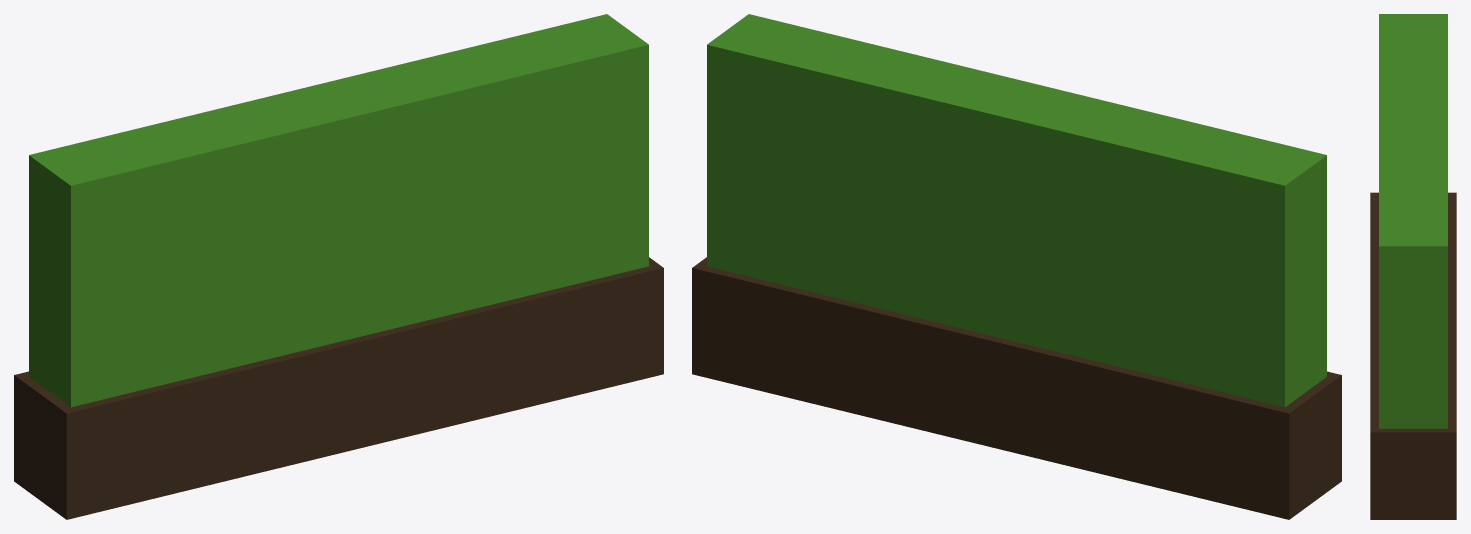
File: Hedge.fbx
3 renders of one model, left to right at view 1: azimuth 30°, elevation 25°; view 2: azimuth 150°, elevation 25°; view 3: azimuth 270°, elevation 25°, orthographic. The views are drawn at different scales.
Parts seen in each view (by area): view 1: Cube.028, Cube.015; view 2: Cube.028, Cube.015; view 3: Cube.028, Cube.015.
Part boxes in pixels (<box>): Cube.028: <box>29,14,648,407</box>; Cube.015: <box>14,257,663,519</box>; Cube.028: <box>707,14,1326,407</box>; Cube.015: <box>692,257,1341,519</box>; Cube.028: <box>1379,14,1447,428</box>; Cube.015: <box>1370,192,1456,519</box>.
Size of the model in its own units: 699 by 367 by 107.
